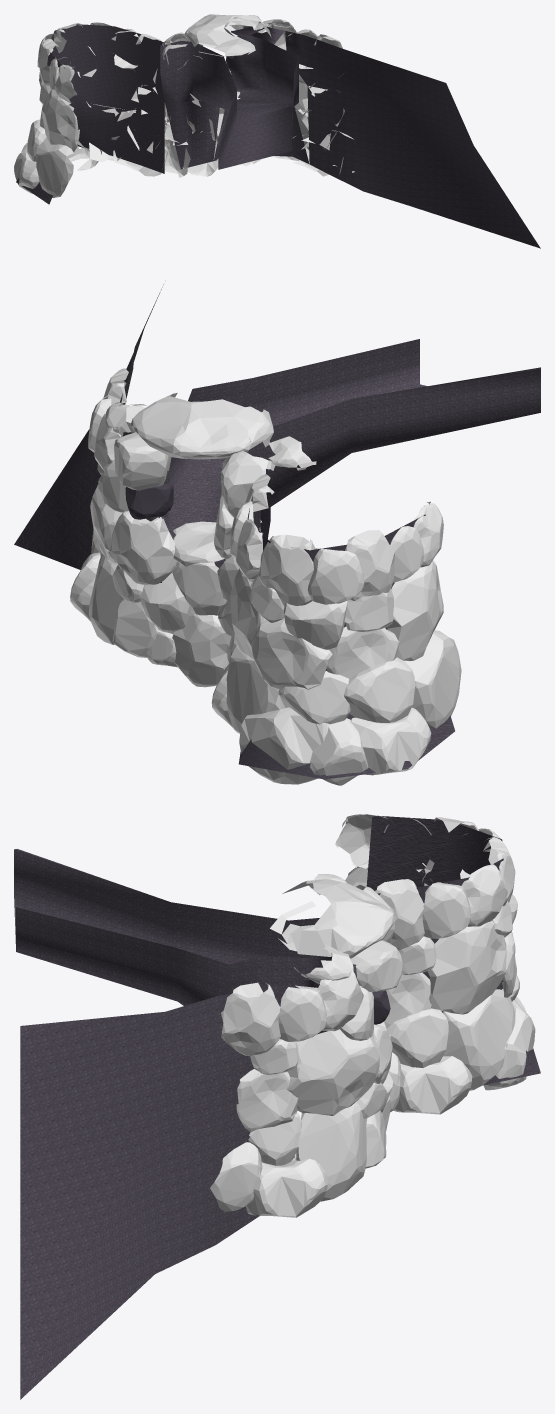
The model's file is ProloguePath1_SecretEntrance.fbx.
3 renders of one model, top to bottom at view 1: azimuth 30°, elevation 25°; view 2: azimuth 150°, elevation 25°; view 3: azimuth 270°, elevation 25°, orthographic. The views are drawn at different scales.
Visible parts, largest first — view 1: ProloguePath1_SecretEntrance; view 2: ProloguePath1_SecretEntrance; view 3: ProloguePath1_SecretEntrance.
Part boxes in pixels (x1,y1,x2,y2): ProloguePath1_SecretEntrance: (14,14,540,248); ProloguePath1_SecretEntrance: (14,284,540,785); ProloguePath1_SecretEntrance: (14,814,540,1399).
Bounding box in the file's own units: 5107 × 2665 × 3780.
